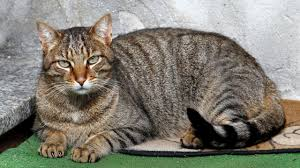Gato: (33, 15, 253, 137)
